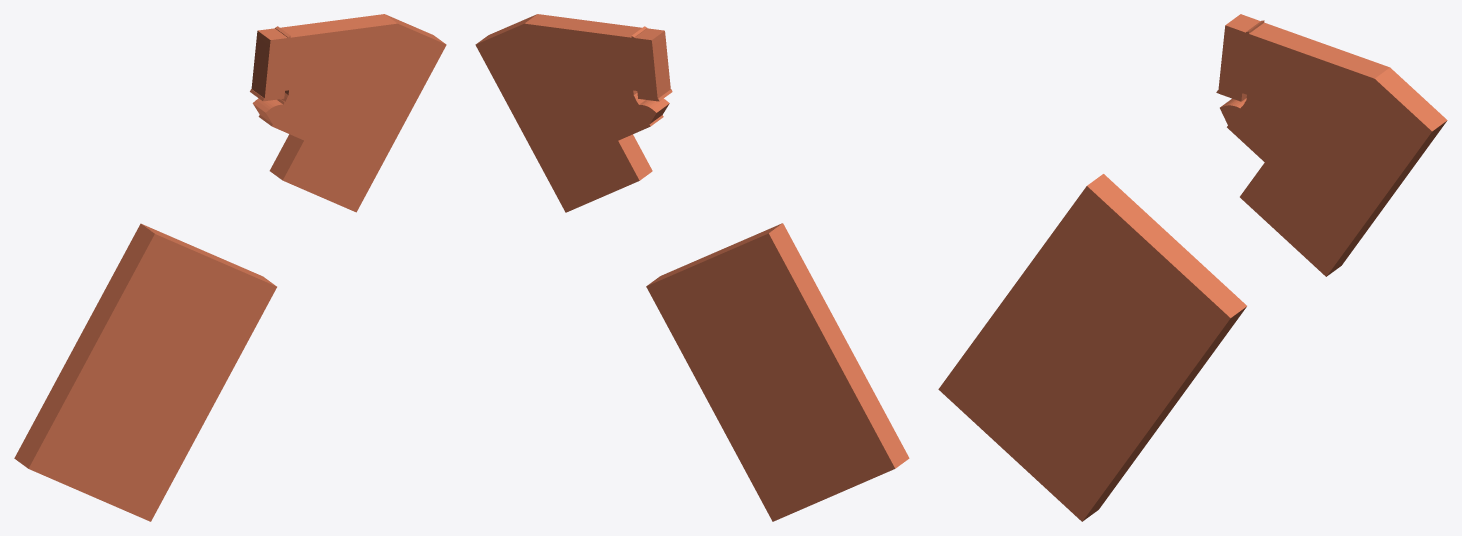
File: buildings_existing.obj
3 views of the same model, side by side, from view 1: azimuth 30°, elevation 25°; view 2: azimuth 150°, elevation 25°; view 3: azimuth 330°, elevation 25° (orthographic). The views are drawn at different scales.
Parts seen in each view (by area): view 1: BAG_0599100010060970, BAG_0599100000371373; view 2: BAG_0599100010060970, BAG_0599100000371373; view 3: BAG_0599100010060970, BAG_0599100000371373.
Boxes of the visible parts, box(x1,y1,x2,y2) form: BAG_0599100010060970: box(14, 223, 276, 521); BAG_0599100000371373: box(250, 14, 446, 212); BAG_0599100010060970: box(646, 223, 909, 521); BAG_0599100000371373: box(475, 14, 672, 212); BAG_0599100010060970: box(938, 174, 1246, 521); BAG_0599100000371373: box(1216, 14, 1447, 276).
Bounding box in the file's own units: 217 × 224 × 12.78.
